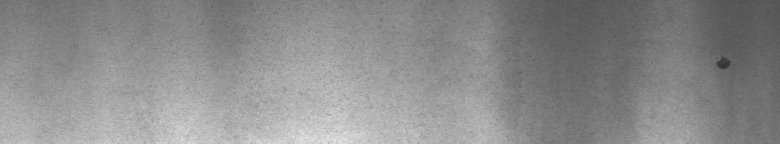fi: (712, 52, 733, 76)
